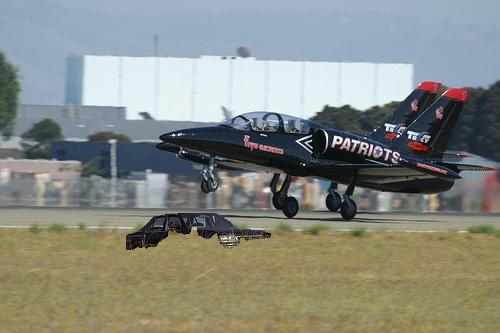tampered: (127, 214, 271, 250)
